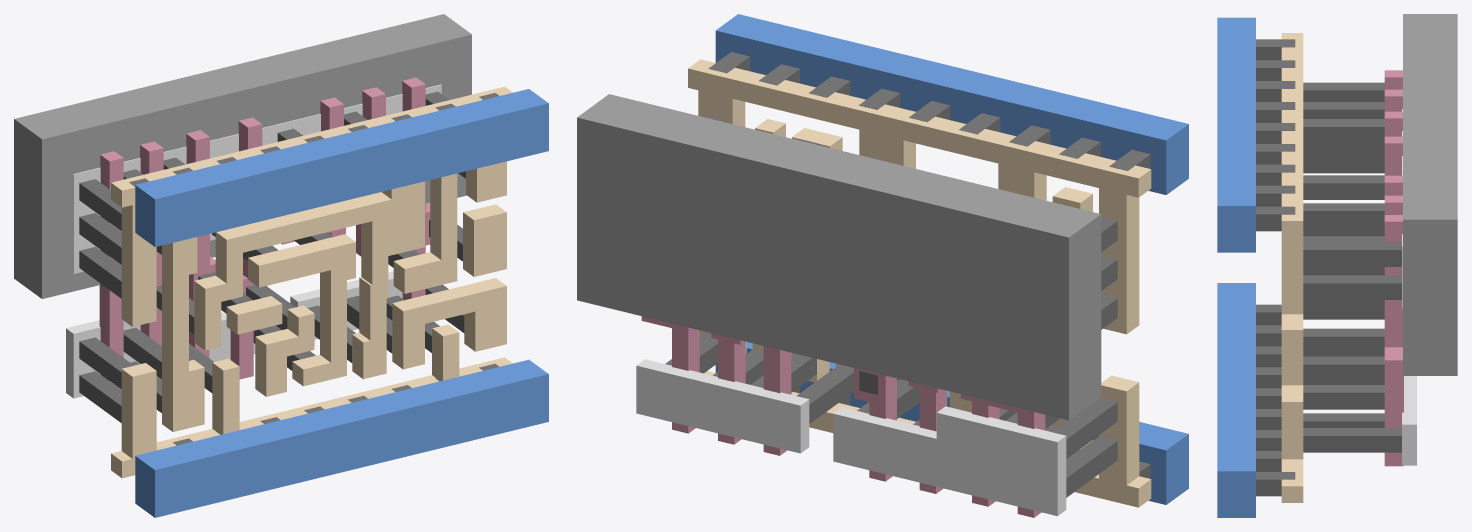
File: sky130_fd_sc_hd__o2bb2a_2.gds.gltf
3 renders of one model, left to right at view 1: azimuth 30°, elevation 25°; view 2: azimuth 150°, elevation 25°; view 3: azimuth 270°, elevation 25°, orthographic. The views are drawn at different scales.
Visible parts, largest first — view 1: sky130_fd_sc_hd__o2bb2a_2_li1, sky130_fd_sc_hd__o2bb2a_2_met1, sky130_fd_sc_hd__o2bb2a_2_nwell, sky130_fd_sc_hd__o2bb2a_2_licon, sky130_fd_sc_hd__o2bb2a_2_poly, sky130_fd_sc_hd__o2bb2a_2_diff, sky130_fd_sc_hd__o2bb2a_2_mcon; view 2: sky130_fd_sc_hd__o2bb2a_2_nwell, sky130_fd_sc_hd__o2bb2a_2_li1, sky130_fd_sc_hd__o2bb2a_2_met1, sky130_fd_sc_hd__o2bb2a_2_diff, sky130_fd_sc_hd__o2bb2a_2_licon, sky130_fd_sc_hd__o2bb2a_2_poly, sky130_fd_sc_hd__o2bb2a_2_mcon; view 3: sky130_fd_sc_hd__o2bb2a_2_licon, sky130_fd_sc_hd__o2bb2a_2_nwell, sky130_fd_sc_hd__o2bb2a_2_met1, sky130_fd_sc_hd__o2bb2a_2_mcon, sky130_fd_sc_hd__o2bb2a_2_li1, sky130_fd_sc_hd__o2bb2a_2_poly, sky130_fd_sc_hd__o2bb2a_2_diff.
Boxes of the visible parts, <box> form: sky130_fd_sc_hd__o2bb2a_2_li1: <box>111,86,512,478</box>; sky130_fd_sc_hd__o2bb2a_2_met1: <box>135,89,548,517</box>; sky130_fd_sc_hd__o2bb2a_2_nwell: <box>14,14,471,298</box>; sky130_fd_sc_hd__o2bb2a_2_licon: <box>79,91,465,422</box>; sky130_fd_sc_hd__o2bb2a_2_poly: <box>99,77,430,389</box>; sky130_fd_sc_hd__o2bb2a_2_diff: <box>66,84,441,398</box>; sky130_fd_sc_hd__o2bb2a_2_mcon: <box>129,93,499,445</box>; sky130_fd_sc_hd__o2bb2a_2_nwell: <box>577,94,1101,420</box>; sky130_fd_sc_hd__o2bb2a_2_li1: <box>688,59,1151,507</box>; sky130_fd_sc_hd__o2bb2a_2_met1: <box>715,14,1188,504</box>; sky130_fd_sc_hd__o2bb2a_2_diff: <box>636,359,1066,516</box>; sky130_fd_sc_hd__o2bb2a_2_licon: <box>665,116,1117,497</box>; sky130_fd_sc_hd__o2bb2a_2_poly: <box>641,316,1045,517</box>; sky130_fd_sc_hd__o2bb2a_2_mcon: <box>708,52,1150,478</box>; sky130_fd_sc_hd__o2bb2a_2_licon: <box>1303,82,1401,452</box>; sky130_fd_sc_hd__o2bb2a_2_nwell: <box>1403,14,1457,375</box>; sky130_fd_sc_hd__o2bb2a_2_met1: <box>1217,17,1255,517</box>; sky130_fd_sc_hd__o2bb2a_2_mcon: <box>1256,39,1295,496</box>; sky130_fd_sc_hd__o2bb2a_2_li1: <box>1281,33,1303,502</box>; sky130_fd_sc_hd__o2bb2a_2_poly: <box>1384,70,1403,466</box>; sky130_fd_sc_hd__o2bb2a_2_diff: <box>1402,109,1416,465</box>.
Bounding box in the file's own units: 4.52 × 3.2 × 2.24.
